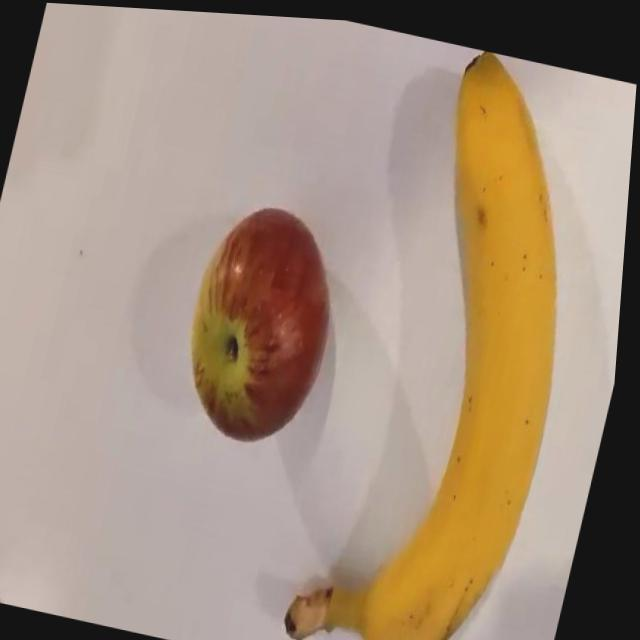Apple: (169, 189, 363, 454)
Banana: (305, 31, 624, 640)
